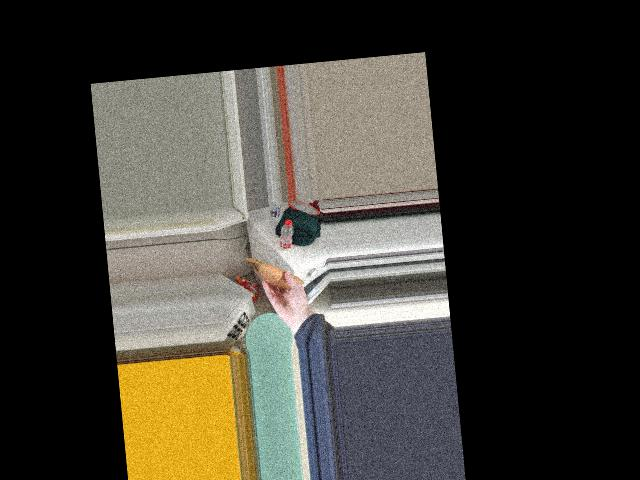sweet_potato: (260, 262, 295, 291)
